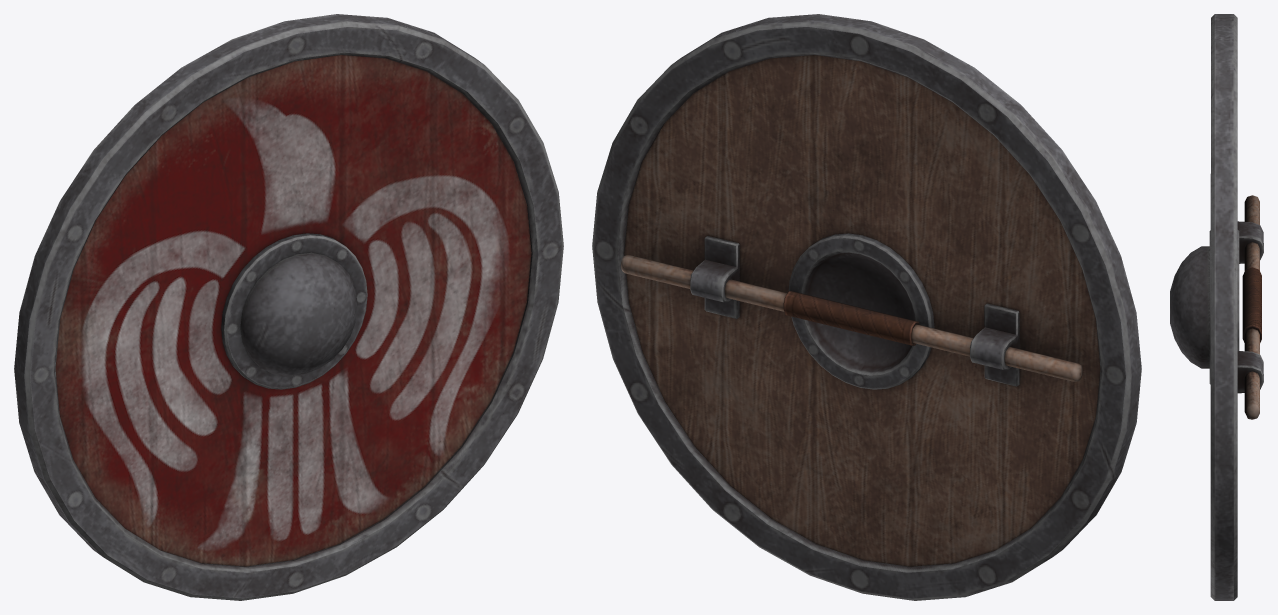
File: Schild.dae
The picture shows the model from 3 angles, left to right: view 1: azimuth 30°, elevation 25°; view 2: azimuth 150°, elevation 25°; view 3: azimuth 270°, elevation 25°; orthographic projection. The views are drawn at different scales.
Visible parts, largest first — view 1: Schild_High; view 2: Schild_High; view 3: Schild_High.
Boxes of the visible parts, left/top/right/bottom form: Schild_High: left=14, top=14, right=563, bottom=600; Schild_High: left=592, top=14, right=1141, bottom=600; Schild_High: left=1170, top=14, right=1263, bottom=600.
Bounding box in the file's own units: 0.85 × 0.1356 × 0.85.
Materials: 1 (1 with a texture image).
